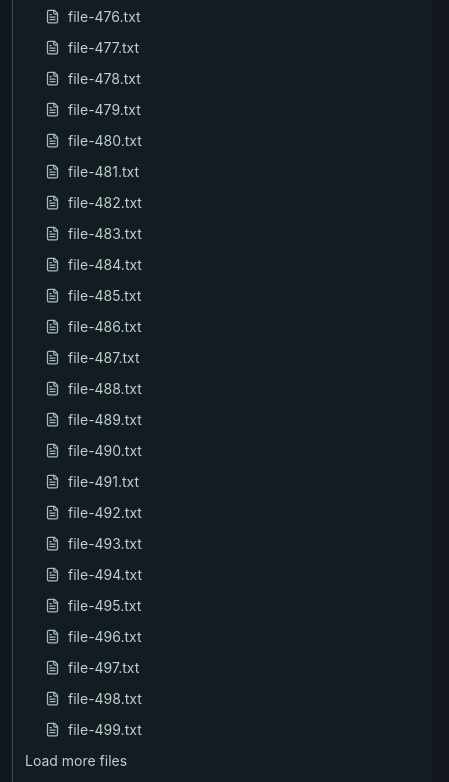
Scenario: loads the next folder page when the first page is full
(page scrolled)
Click the button "Load more files" at (76, 760), box [13,745,432,776]
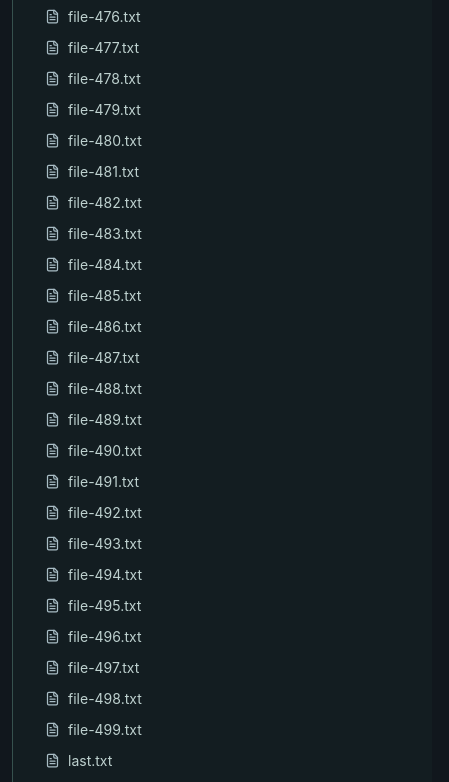
Expected: the button "last.txt" is shown, [13,745,432,776]
Expected: the button "Load more files" is gone
